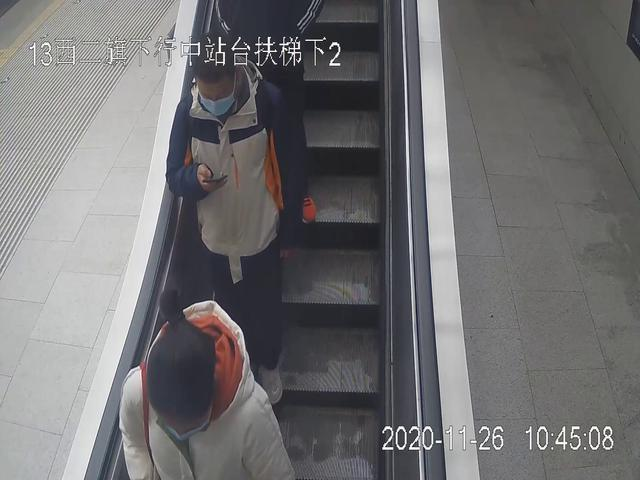person: (166, 34, 316, 406), (119, 289, 295, 480)
